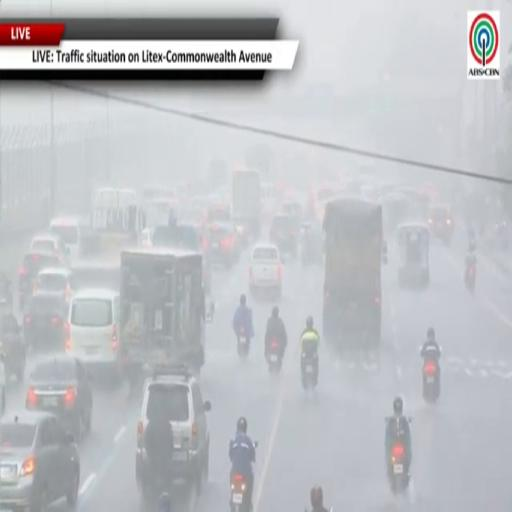car: (136, 365, 211, 502), (0, 411, 80, 511), (26, 354, 92, 442), (65, 288, 121, 379), (153, 222, 211, 293), (18, 250, 61, 310), (23, 292, 67, 350), (71, 256, 120, 294), (0, 313, 26, 382), (249, 244, 282, 298), (33, 267, 72, 303), (209, 222, 239, 268), (50, 217, 82, 260), (30, 232, 69, 265), (270, 214, 298, 257), (428, 205, 454, 245), (0, 272, 13, 311), (207, 202, 230, 223), (141, 228, 152, 248)
motorcycle: (140, 472, 171, 511), (420, 347, 441, 403), (389, 441, 409, 493), (423, 359, 440, 403), (230, 474, 250, 511), (301, 351, 318, 390), (268, 340, 282, 373), (237, 328, 250, 358), (465, 264, 476, 293), (329, 508, 333, 511)
truck: (120, 249, 206, 373), (323, 197, 386, 348), (81, 187, 145, 258), (232, 169, 261, 238)
